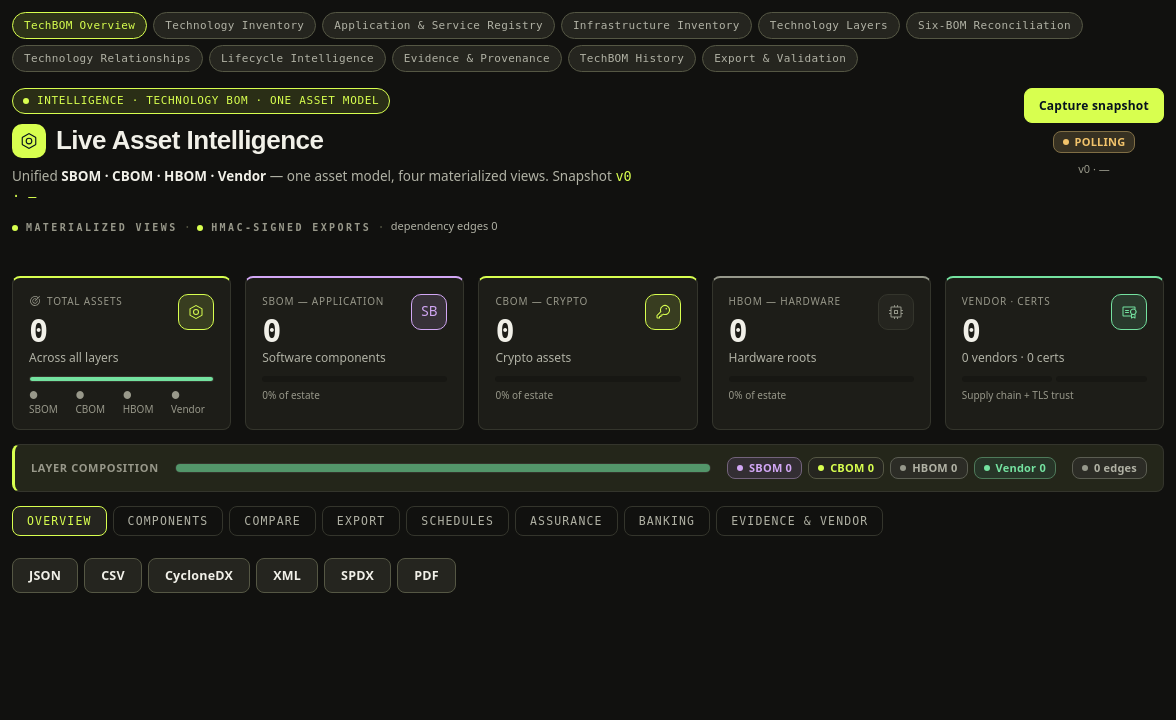
TechBOM workspace › pins the 11-section navigation and the technology inventory columns
Click the tab "Technology Inventory": click(235, 26) [153,12,316,39]
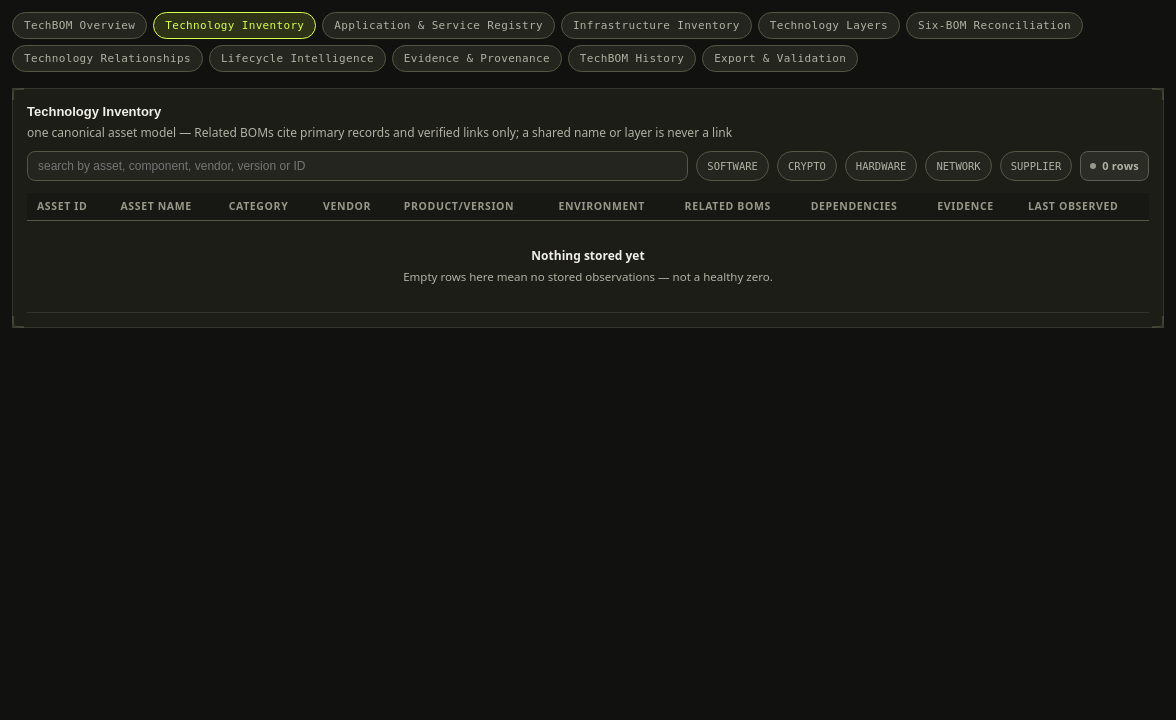
Expected: the column heading "Asset ID" is shown, [27,193,110,221]
Expected: the column heading "Asset name" is shown, [110,193,219,221]
Expected: the column heading "Category" is shown, [219,193,313,221]
